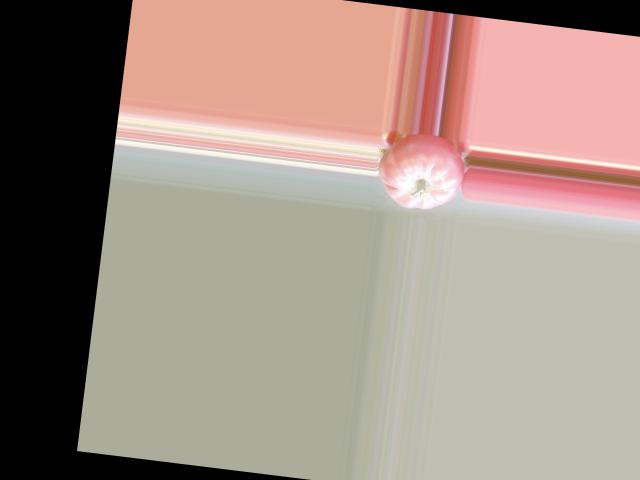tomato: (373, 128, 468, 213)
